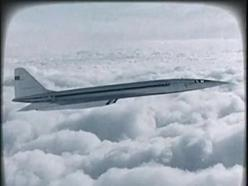aircraft: (12, 67, 233, 112)
